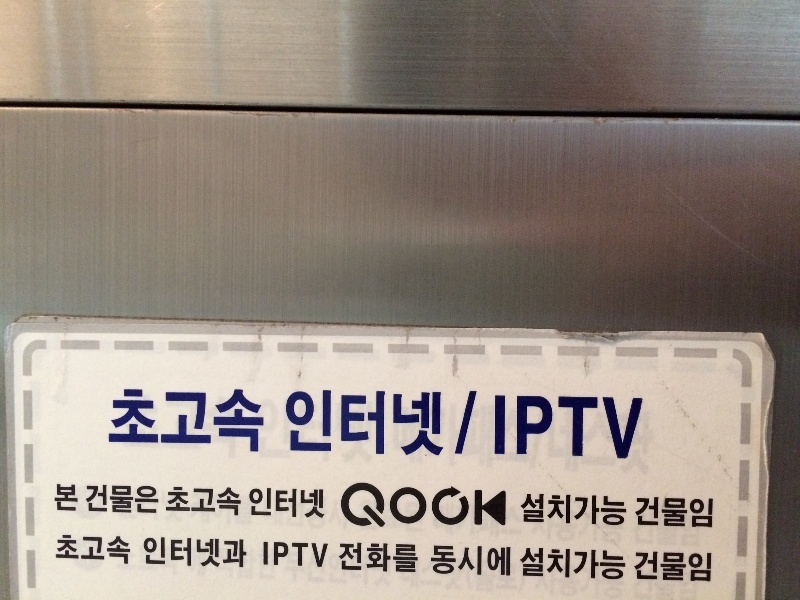text: (481, 392, 496, 462), (497, 392, 512, 462), (513, 392, 528, 462), (529, 392, 544, 462), (545, 392, 560, 462), (561, 392, 576, 462), (577, 392, 592, 462), (593, 392, 608, 462), (609, 392, 624, 462), (625, 392, 640, 462), (289, 393, 304, 457), (305, 393, 320, 457), (321, 393, 336, 457), (337, 393, 352, 457), (353, 393, 368, 457), (369, 393, 384, 457), (385, 393, 400, 457), (401, 393, 416, 457), (417, 393, 432, 457), (113, 390, 128, 453), (129, 390, 144, 453), (145, 390, 160, 453), (161, 390, 176, 453), (177, 390, 192, 453), (193, 390, 208, 453), (209, 390, 224, 453), (225, 390, 240, 453), (241, 390, 256, 453), (469, 392, 480, 462), (433, 393, 445, 457), (337, 484, 352, 529), (353, 484, 368, 529), (369, 484, 384, 529), (385, 484, 400, 529), (401, 484, 416, 529), (417, 484, 432, 529), (433, 484, 448, 529), (449, 484, 464, 529), (465, 484, 480, 529), (481, 484, 496, 529), (529, 547, 544, 581), (545, 547, 560, 581), (561, 547, 576, 581), (577, 547, 592, 581), (593, 547, 608, 581), (609, 547, 624, 581), (497, 484, 508, 529), (65, 533, 80, 566), (81, 533, 96, 566), (97, 533, 112, 566), (113, 533, 128, 566), (353, 544, 368, 577), (369, 544, 384, 577), (385, 544, 400, 577), (401, 544, 416, 577), (177, 487, 192, 519), (193, 487, 208, 519), (209, 487, 224, 519), (225, 487, 240, 519), (529, 495, 544, 527), (545, 495, 560, 527), (561, 495, 576, 527), (577, 495, 592, 527), (593, 495, 608, 527), (609, 495, 624, 527), (433, 547, 448, 579), (449, 547, 464, 579), (465, 547, 480, 579), (481, 547, 496, 579), (497, 547, 512, 579), (641, 553, 656, 585), (657, 553, 672, 585), (673, 553, 688, 585), (689, 553, 704, 585), (641, 499, 656, 530), (657, 499, 672, 530), (673, 499, 688, 530), (689, 499, 704, 530), (257, 490, 272, 520), (273, 490, 288, 520), (289, 490, 304, 520), (305, 490, 320, 520), (145, 539, 160, 569), (161, 539, 176, 569), (177, 539, 192, 569), (193, 539, 208, 569), (209, 539, 224, 569), (225, 539, 240, 569), (353, 545, 368, 575), (369, 545, 384, 575), (385, 545, 400, 575), (401, 545, 416, 575), (97, 487, 112, 516), (113, 487, 128, 516), (129, 487, 144, 516), (145, 487, 159, 516), (273, 544, 288, 571), (289, 544, 304, 571), (305, 544, 320, 571), (340, 544, 352, 577), (65, 485, 79, 513), (339, 545, 352, 575), (257, 390, 263, 453), (641, 392, 646, 462), (705, 499, 716, 530), (85, 487, 96, 516), (53, 485, 64, 513), (167, 487, 176, 519), (705, 553, 714, 585), (56, 533, 64, 566), (263, 544, 272, 571), (248, 490, 256, 520), (521, 547, 528, 581), (521, 495, 528, 527), (634, 553, 640, 585), (109, 390, 112, 453), (321, 544, 328, 571), (241, 539, 247, 569), (635, 499, 640, 530), (321, 490, 326, 520), (286, 393, 288, 457), (625, 547, 628, 581), (625, 495, 628, 527), (129, 533, 131, 566), (417, 545, 419, 575), (417, 544, 418, 577), (241, 487, 242, 519), (431, 547, 432, 579)
